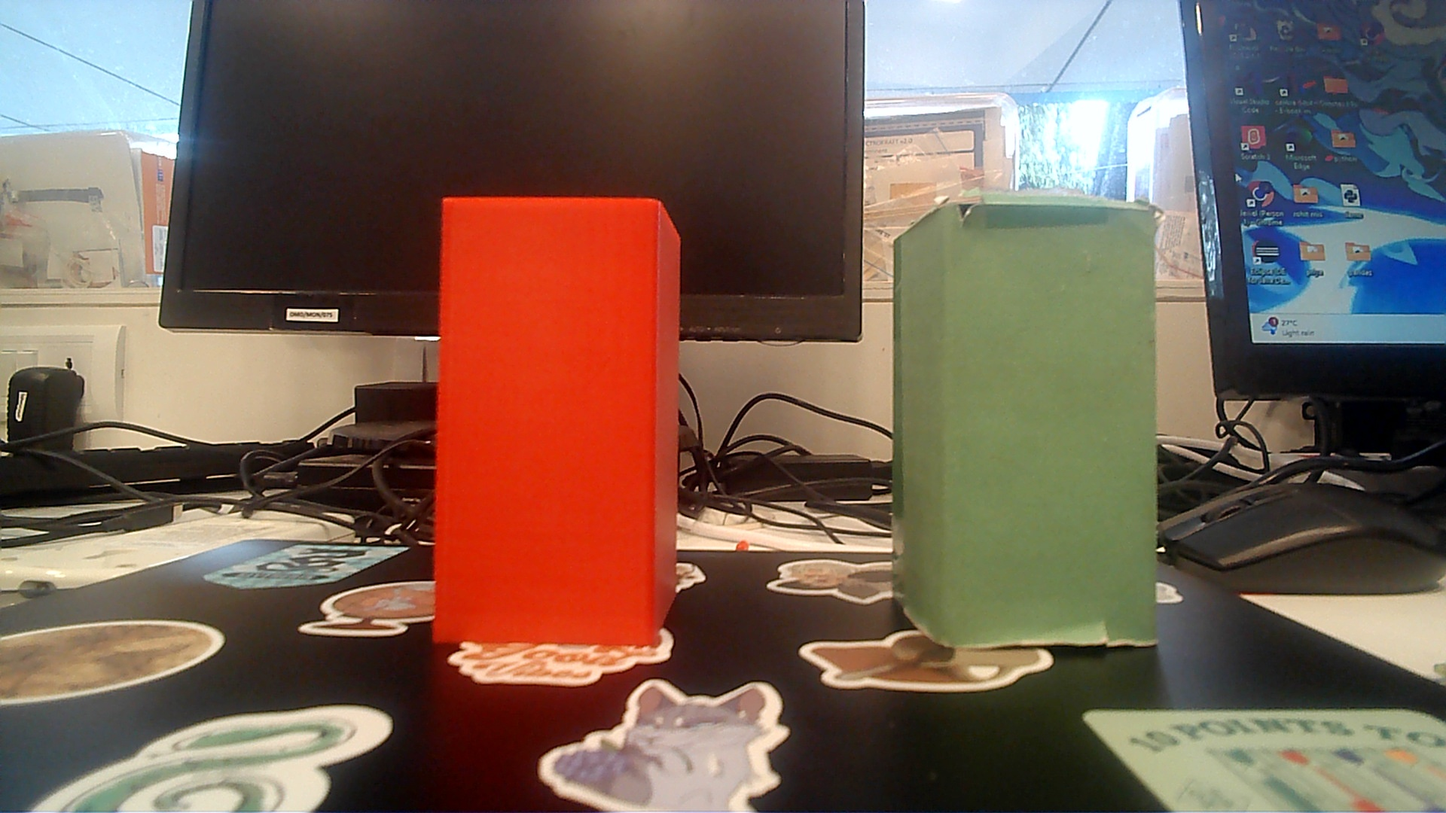red: (436, 187, 679, 647)
